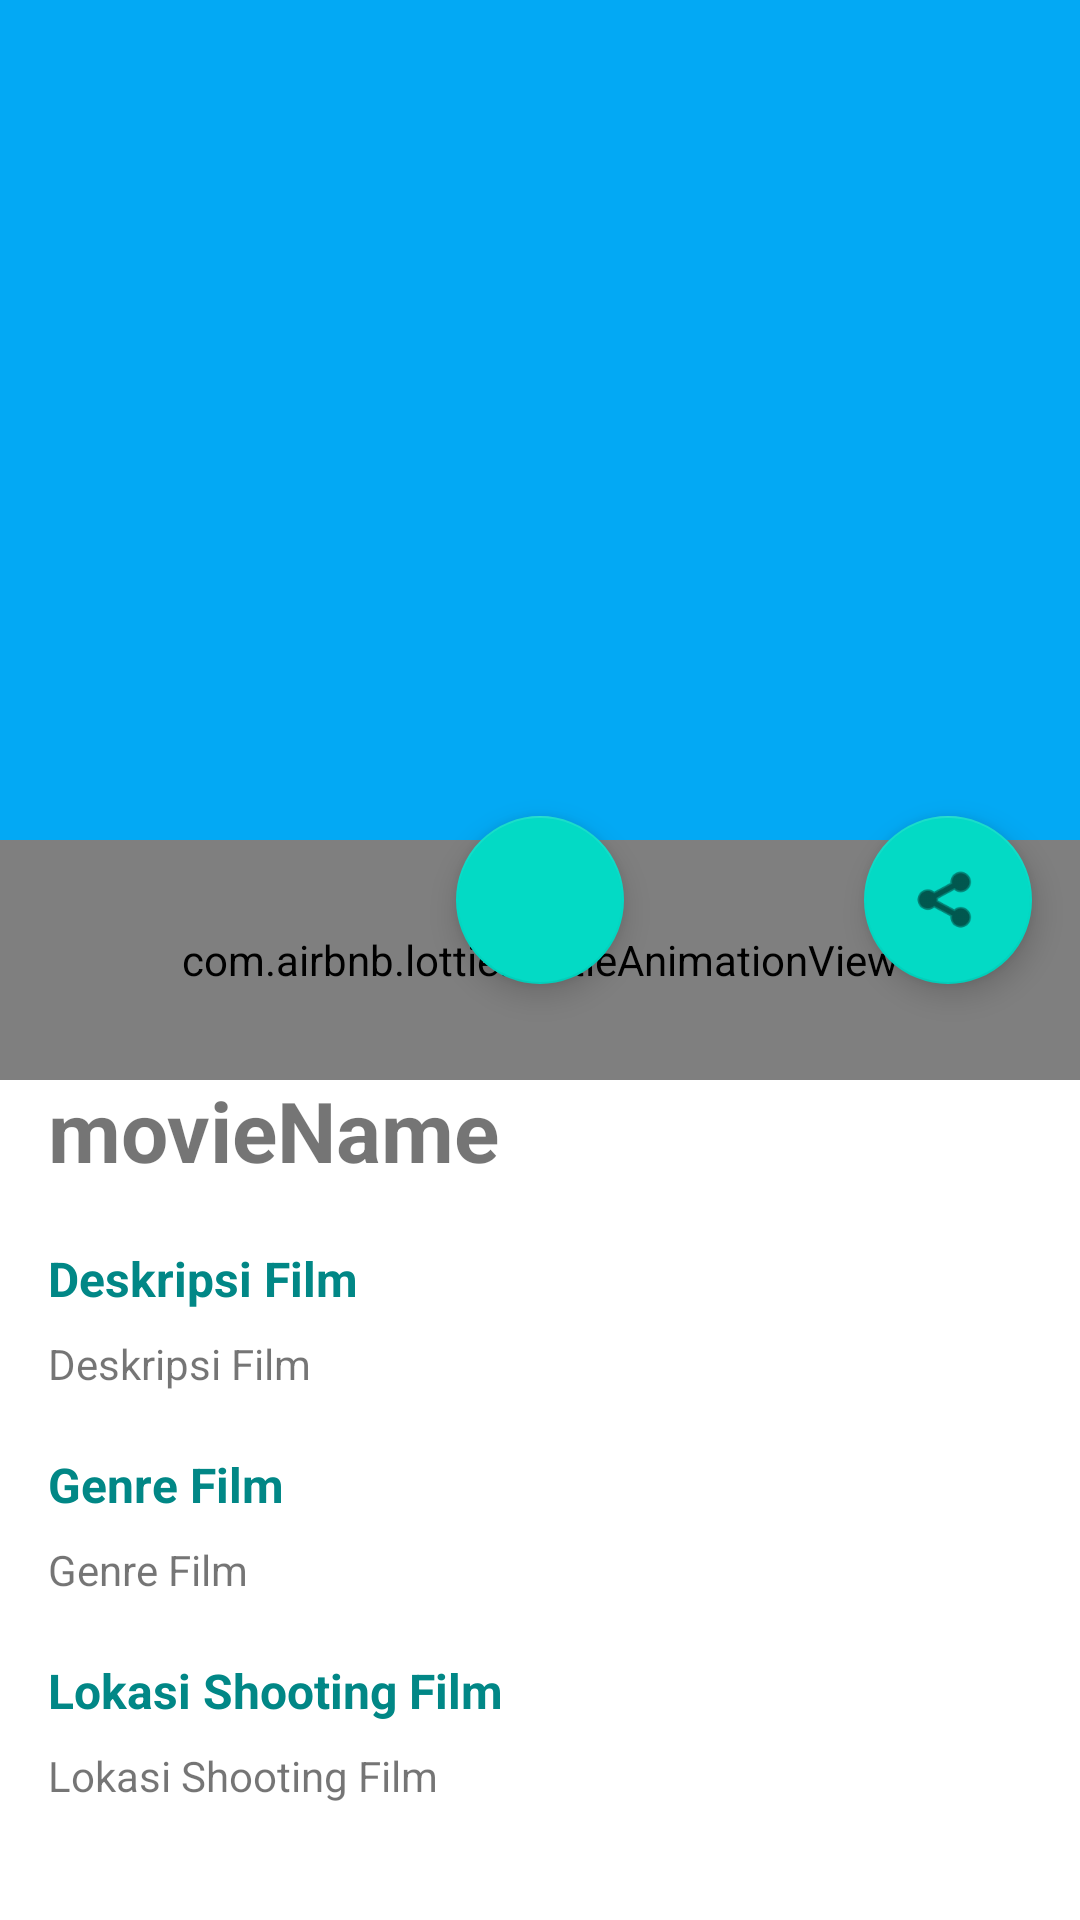

Named icons in this screenshot (1080px x 1920px) and their centers, (x,y):
share: (948,900)
